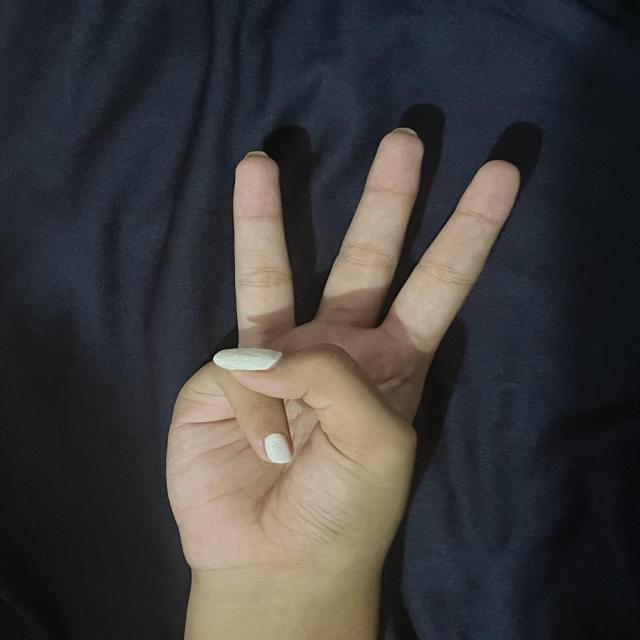W: (162, 125, 523, 566)
